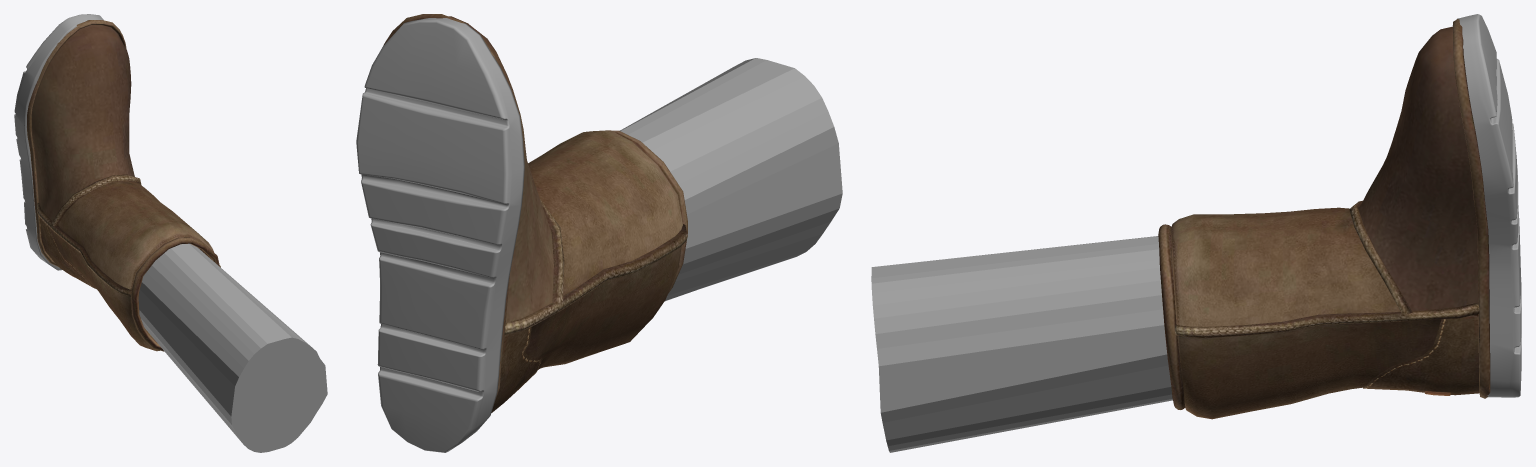
Rendered from shoe_rot_moved_obj.obj.
3 renders of one model, left to right at view 1: azimuth 30°, elevation 25°; view 2: azimuth 150°, elevation 25°; view 3: azimuth 270°, elevation 25°, orthographic. The views are drawn at different scales.
Parts seen in each view (by area): view 1: group2_Box001, Cylinder, Line001_group2; view 2: Line001_group2, group2_Box001, Cylinder; view 3: group2_Box001, Cylinder, Line001_group2.
Part boxes in pixels (x1=…): group2_Box001: x1=27, y1=20, x2=220, y2=351; Cylinder: x1=138, y1=243, x2=327, y2=452; Line001_group2: x1=14, y1=14, x2=103, y2=270; Line001_group2: x1=356, y1=18, x2=524, y2=452; group2_Box001: x1=383, y1=14, x2=687, y2=412; Cylinder: x1=620, y1=58, x2=842, y2=301; group2_Box001: x1=1158, y1=19, x2=1490, y2=419; Cylinder: x1=871, y1=236, x2=1172, y2=452; Line001_group2: x1=1456, y1=14, x2=1521, y2=397.
Bounding box in the file's own units: 0.5573 × 1.46 × 2.01.
